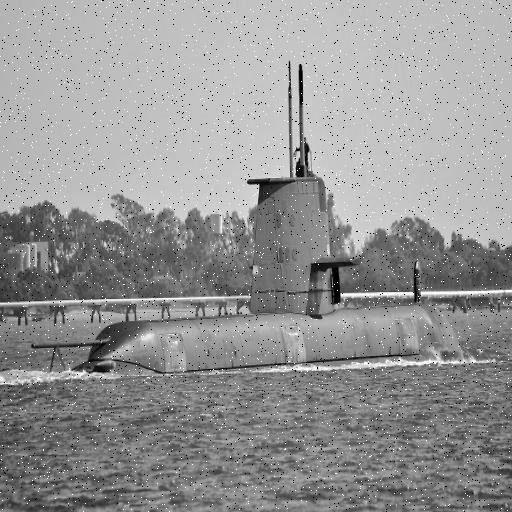submarine: (29, 66, 467, 386)
